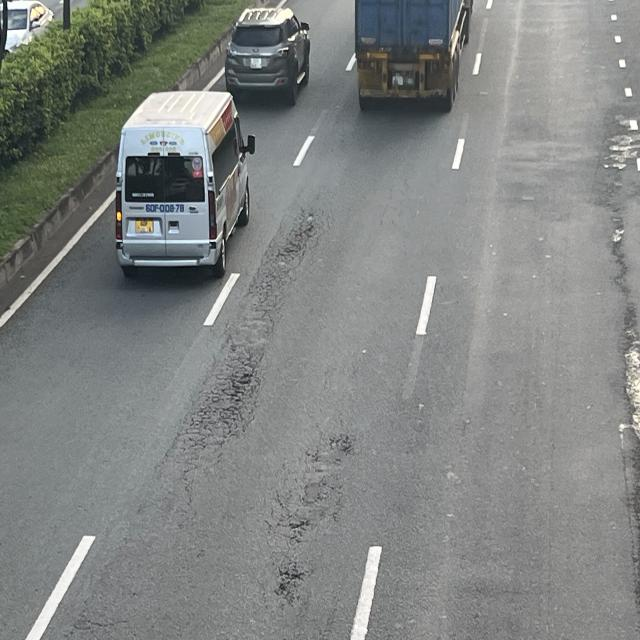car: (227, 9, 314, 106)
container: (354, 0, 478, 108)
van: (114, 87, 254, 275)
